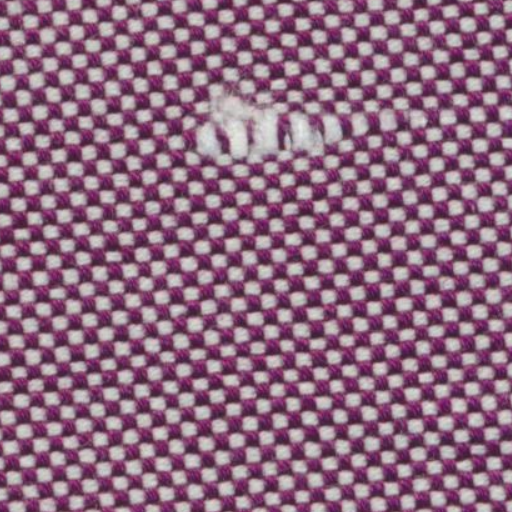DaiSha: (196, 75, 450, 172)
